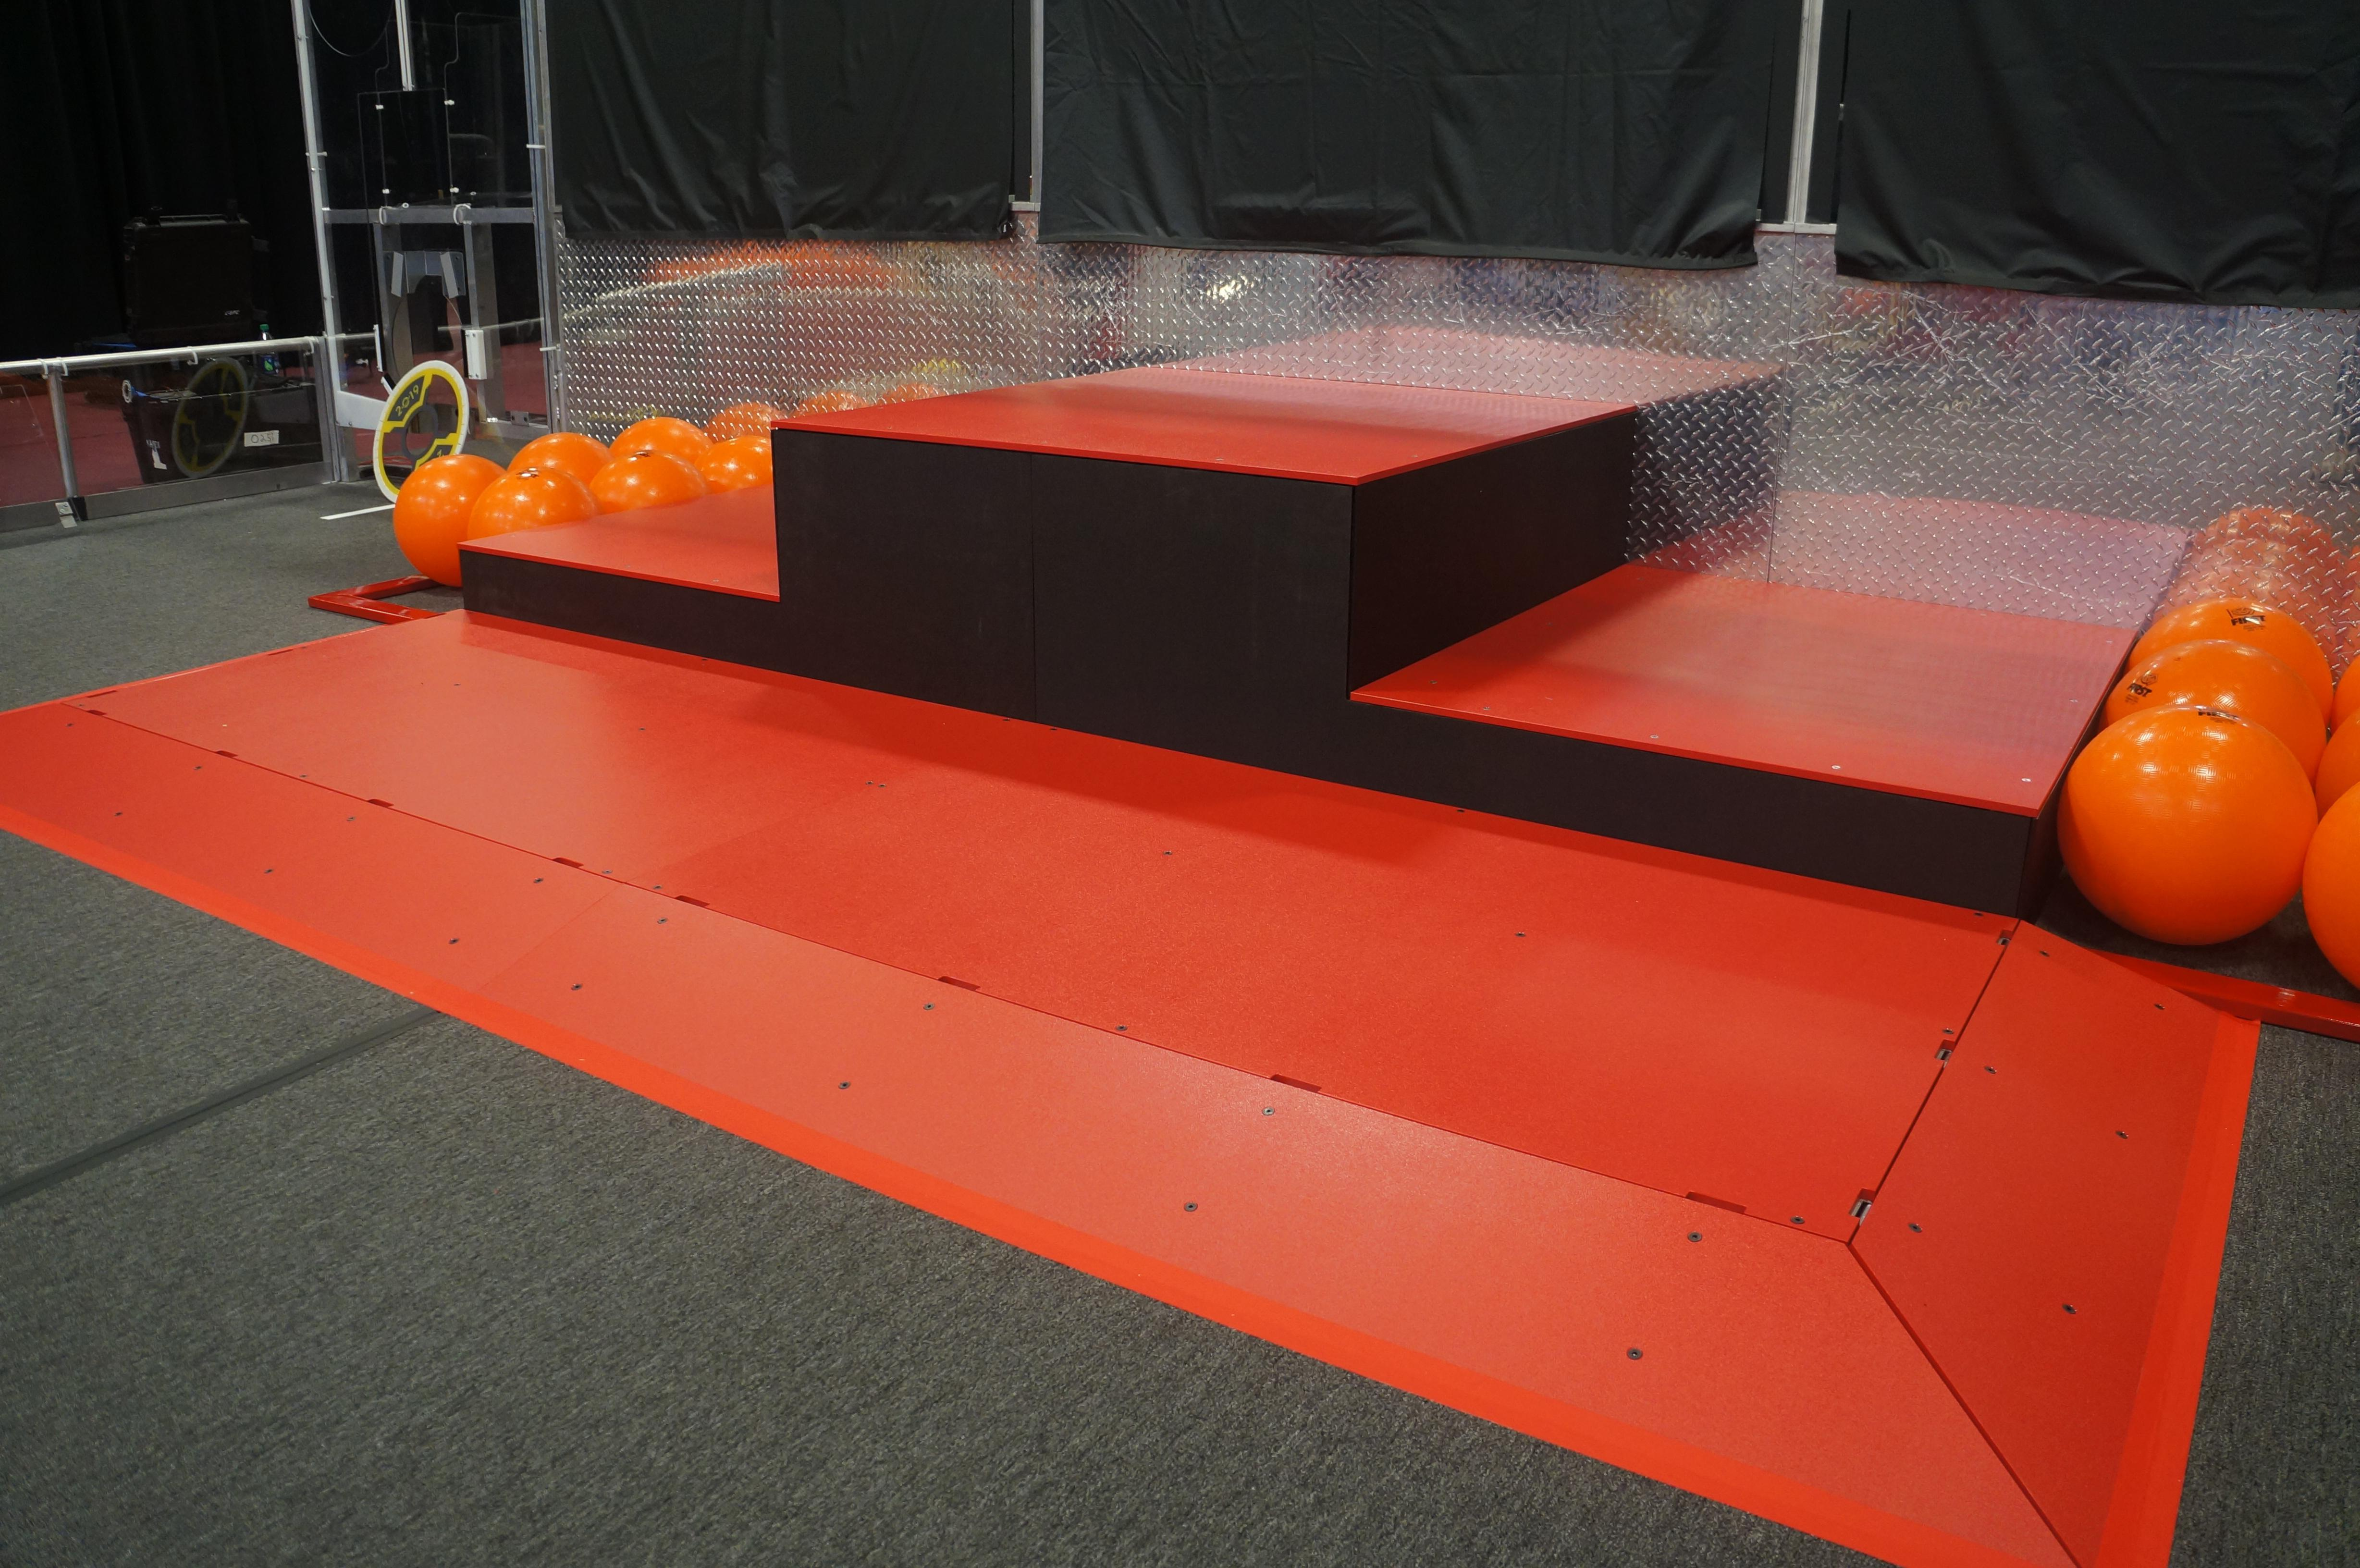Ball: (2064, 709, 2316, 947), (2101, 635, 2327, 773), (2138, 602, 2336, 724), (394, 450, 509, 588), (462, 464, 597, 567), (2306, 775, 2360, 1008), (584, 453, 709, 516), (504, 429, 616, 493), (700, 434, 777, 493), (609, 420, 716, 458)
Hatch: (373, 359, 469, 506)
